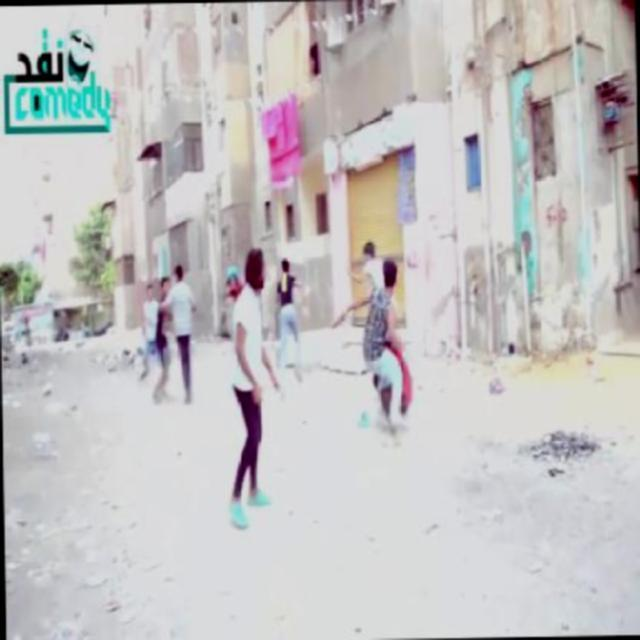fight: (328, 260, 420, 448)
non-fight: (219, 244, 279, 534)
